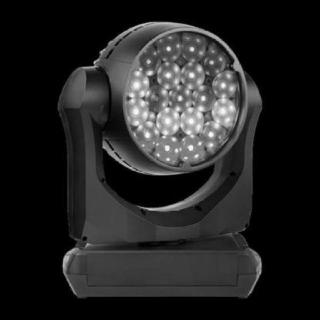other: (123, 34, 244, 168)
